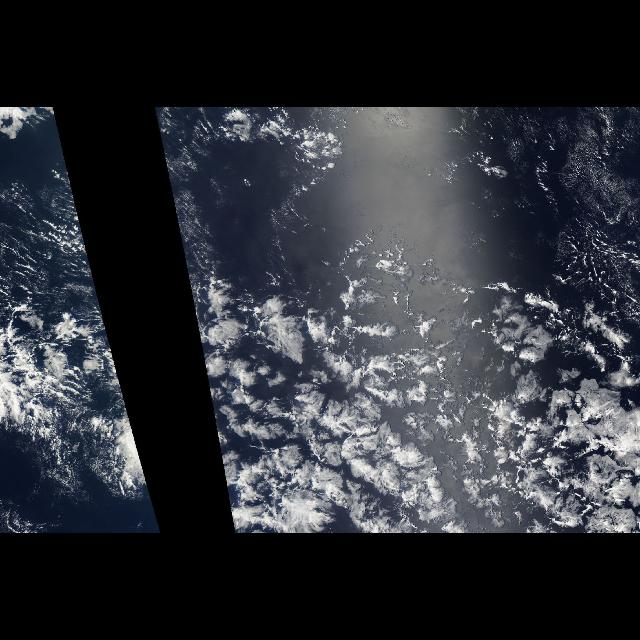Flower: (199, 275, 635, 533)
